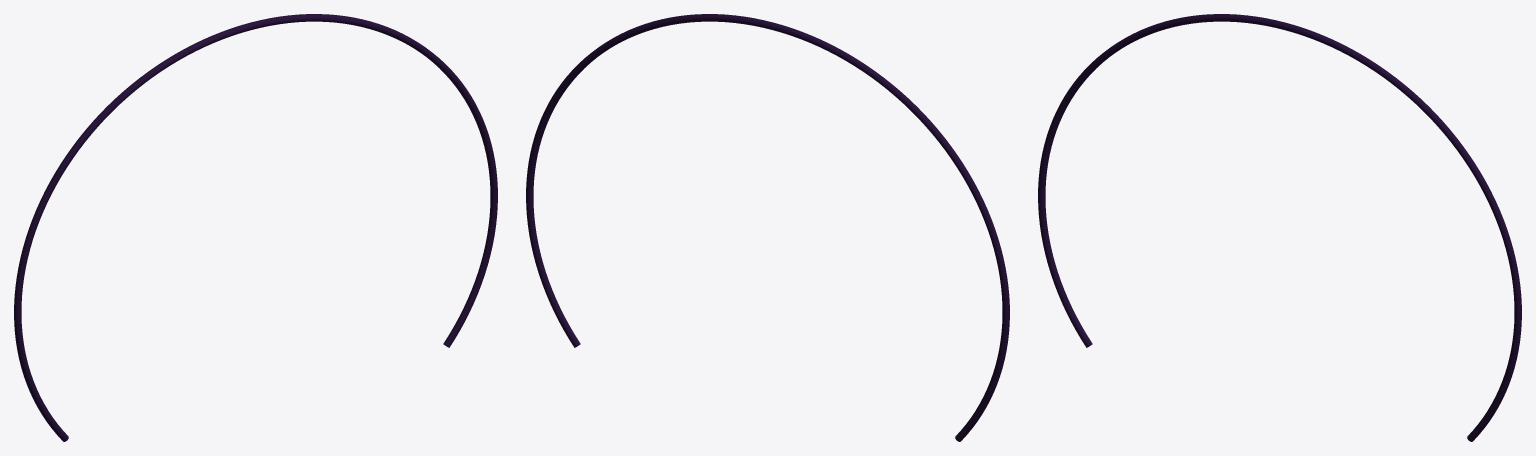
File: neon_ring_corridor_ring.glb
3 views of the same model, side by side, from view 1: azimuth 30°, elevation 25°; view 2: azimuth 150°, elevation 25°; view 3: azimuth 330°, elevation 25° (orthographic).
Parts seen in each view (by area): view 1: Ring 01 Housing; view 2: Ring 01 Housing; view 3: Ring 01 Housing.
Boxes of the visible parts, x1,y1,x2,y2 form: Ring 01 Housing: (14, 14, 497, 441); Ring 01 Housing: (526, 14, 1009, 441); Ring 01 Housing: (1038, 14, 1521, 441).
Size of the model in its own units: 14.55 by 10.73 by 0.2.
